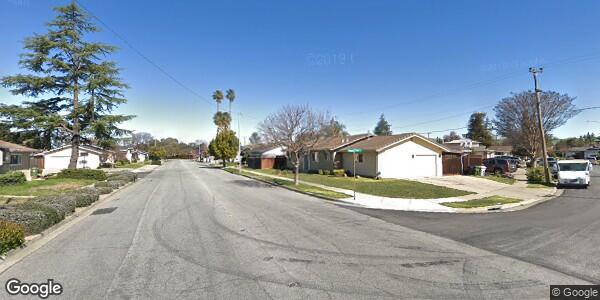Wood_Pole: (526, 63, 556, 185)
